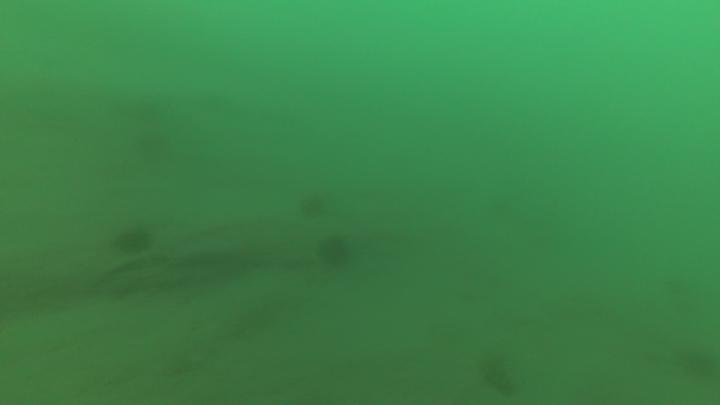echinus: (109, 219, 156, 259), (315, 232, 357, 274), (479, 355, 518, 397), (295, 191, 328, 223)
